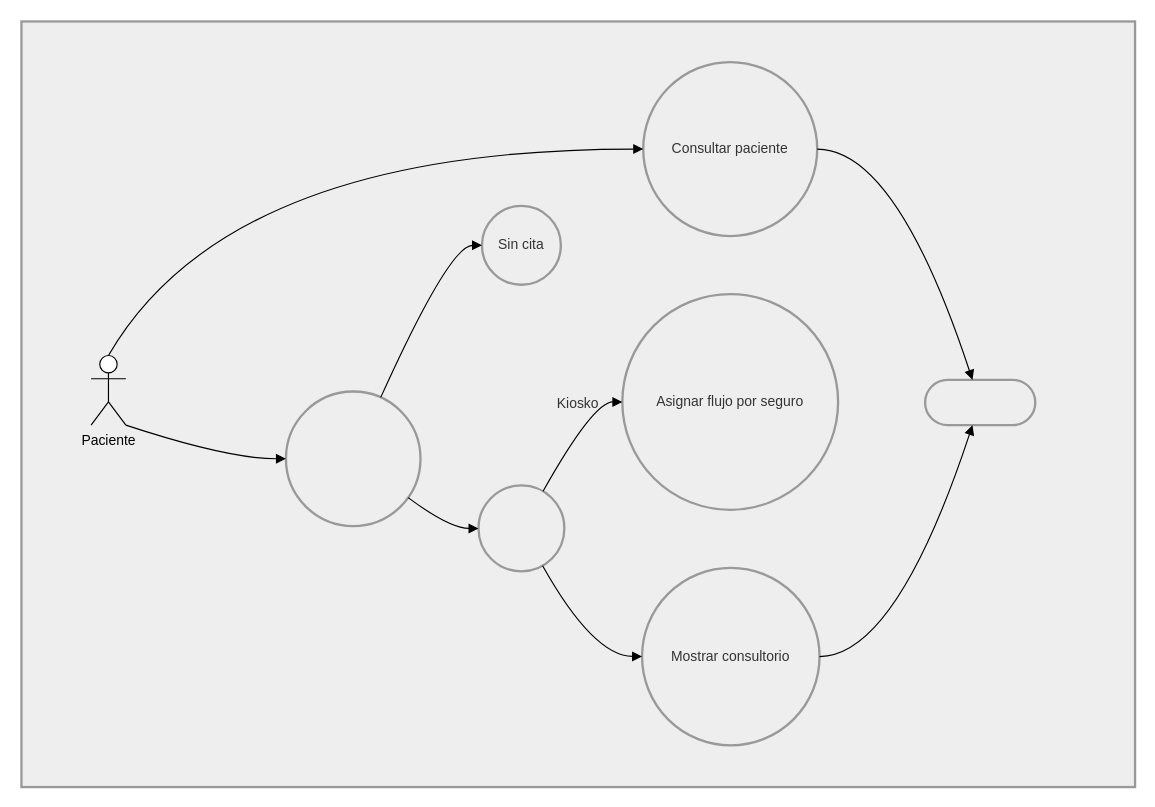
Some shapes in this 1155 by 807 pixel diagram are drawn without their labels. Here are the shapes that lost their labels. From the top down, the centre of each, then its label:
At (979,402): "Zoho CRM".
At (352,458): "Generar turno".
At (521,528): "Con cita".
